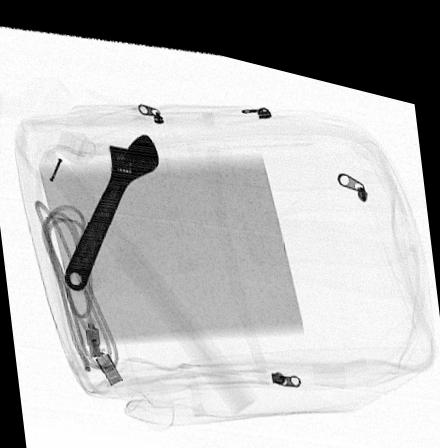Wrench: (61, 123, 159, 290)
